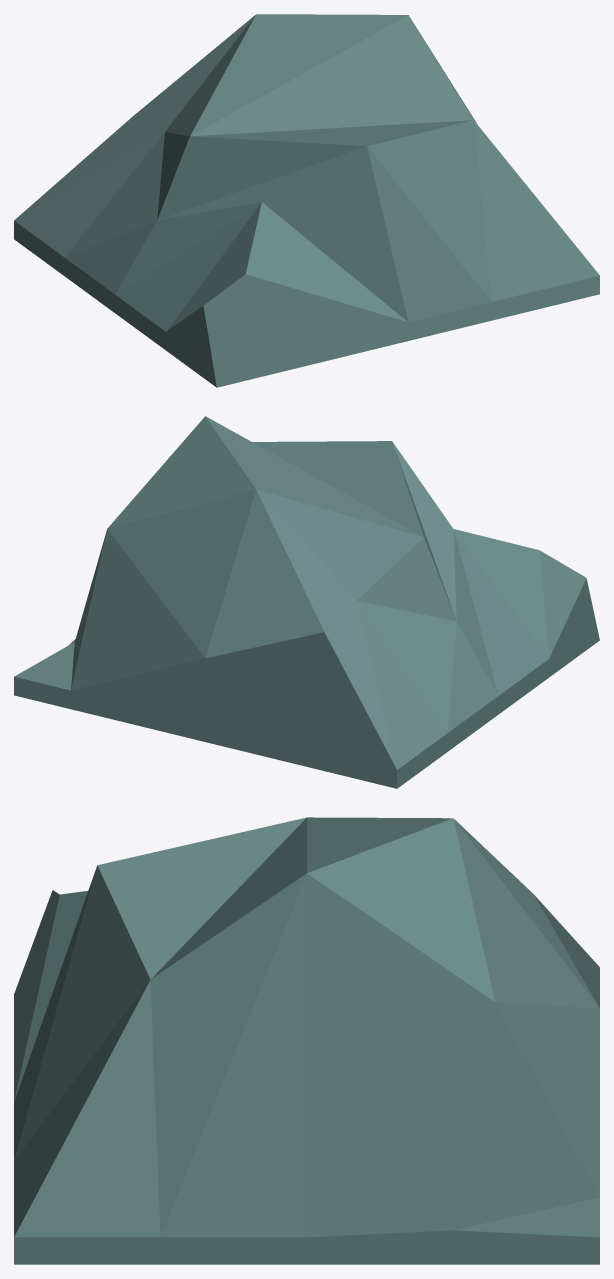
File: SM_Rock.fbx
3 renders of one model, top to bottom at view 1: azimuth 30°, elevation 25°; view 2: azimuth 150°, elevation 25°; view 3: azimuth 270°, elevation 25°, orthographic. The views are drawn at different scales.
Visible parts, largest first — view 1: Cube.017; view 2: Cube.017; view 3: Cube.017.
Part boxes in pixels (bbox=[...]): Cube.017: bbox=[14, 14, 599, 387]; Cube.017: bbox=[14, 416, 599, 788]; Cube.017: bbox=[14, 817, 599, 1264].
Size of the model in its own units: 633 by 358 by 580.
